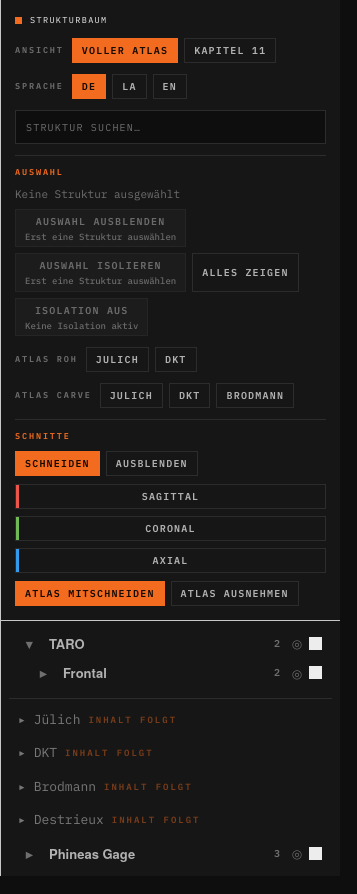
StructureTree Gruppenknoten › trennt Expand-Chevron von gesammelter Gruppenauswahl
The width and height of the screenshot is (357, 894).
Click the button named "Aufklappen Frontal" at (43, 673), box [31,658,55,688]
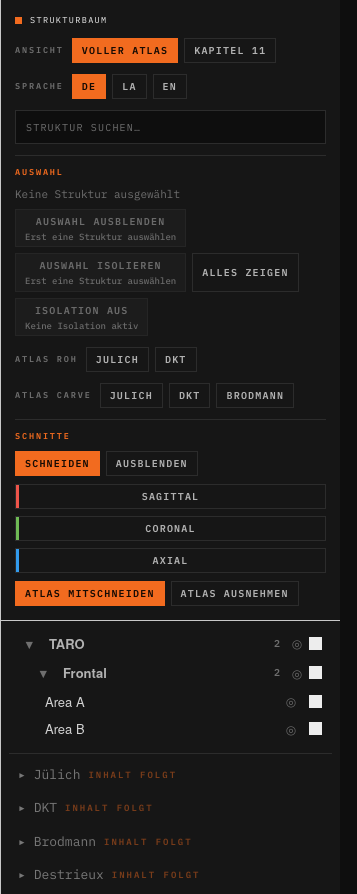
Expected: the button "Area A" is shown
Click the button "Area A" at (65, 701), box [9,688,276,715]
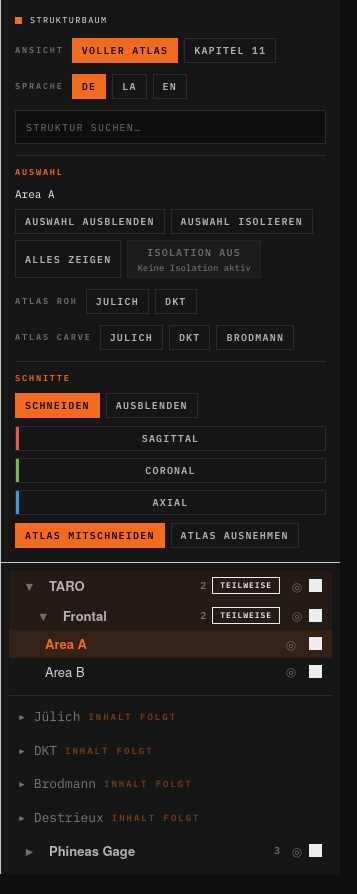
Expected: the 1st text "teilweise" is shown, [212,577,280,594]
Click the button "Frontal 2 teilweise" at (172, 615), box [55,600,288,630]
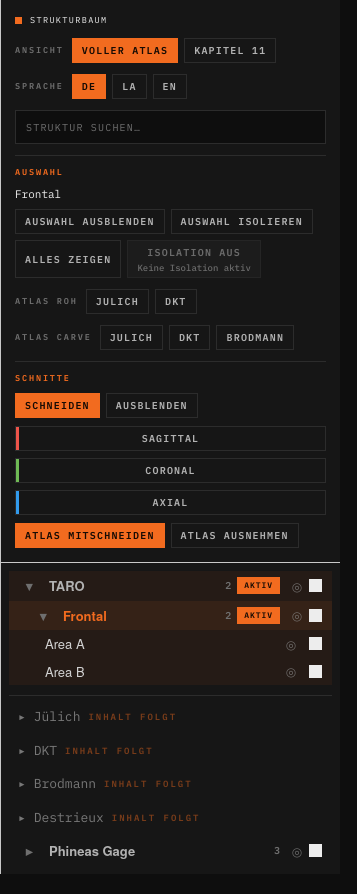
Expected: the 1st text "aktiv" is shown, [237,577,280,594]
